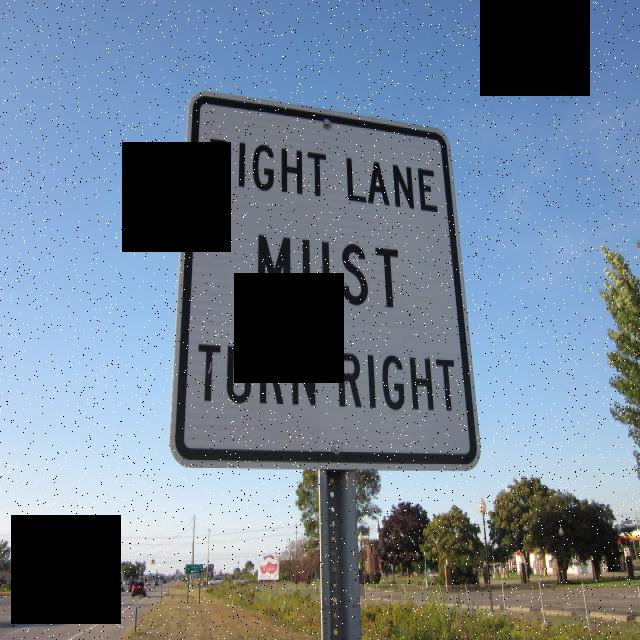regulatory: (160, 84, 489, 494)
